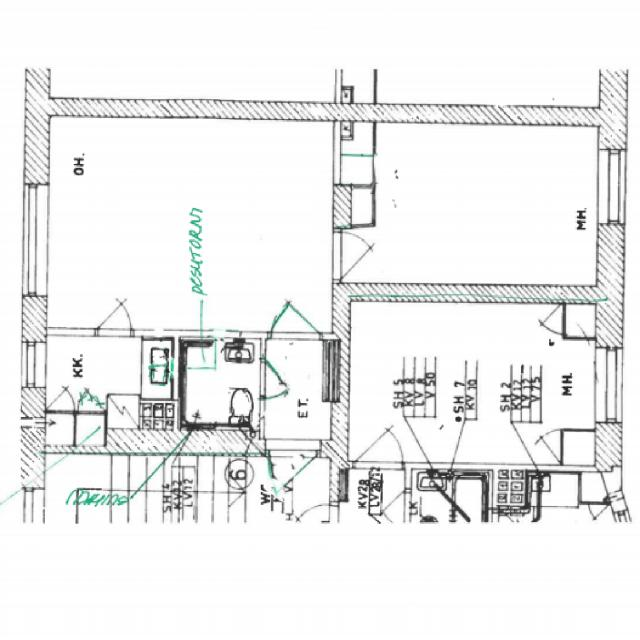door: (266, 440, 321, 514), (271, 276, 321, 338), (332, 230, 390, 280), (94, 288, 132, 338), (260, 358, 306, 398)
